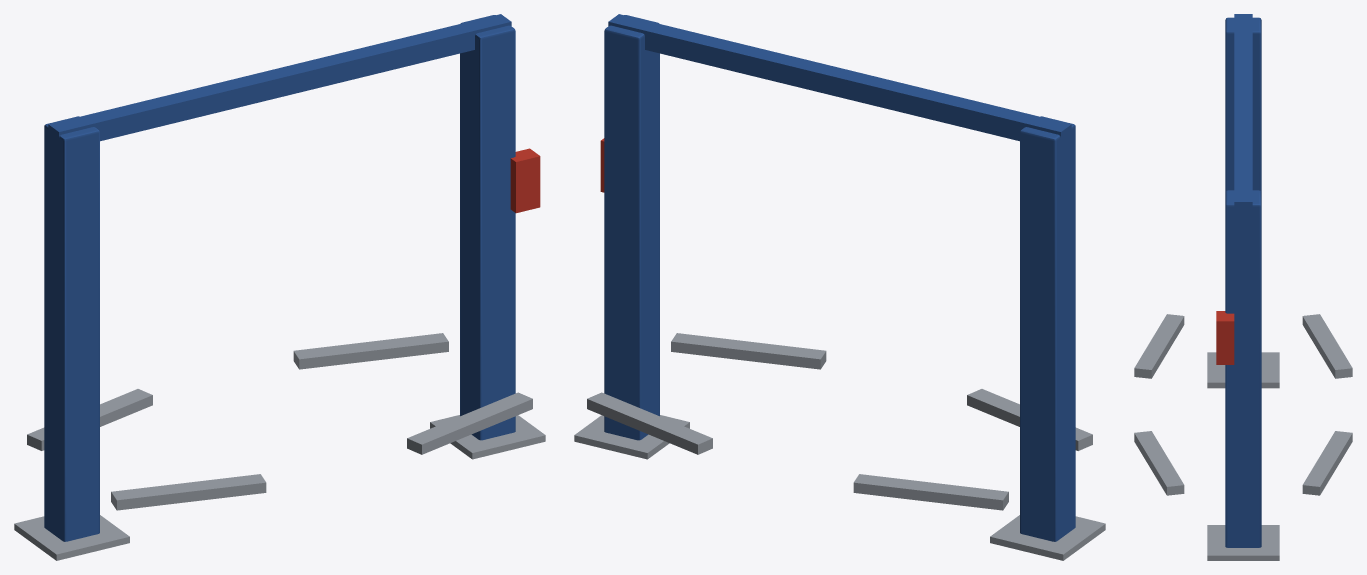
File: car-lift.glb
The picture shows the model from 3 angles, left to right: view 1: azimuth 30°, elevation 25°; view 2: azimuth 150°, elevation 25°; view 3: azimuth 270°, elevation 25°; orthographic projection. The views are drawn at different scales.
Parts seen in each view (by area): view 1: part-lift, part-steel, part-control; view 2: part-lift, part-steel; view 3: part-lift, part-steel, part-control.
Part boxes in pixels (x1=…): part-lift: x1=44, y1=14, x2=515, y2=541; part-steel: x1=14, y1=333, x2=545, y2=560; part-control: x1=510, y1=148, x2=540, y2=213; part-lift: x1=604, y1=14, x2=1075, y2=541; part-steel: x1=574, y1=333, x2=1105, y2=560; part-lift: x1=1225, y1=14, x2=1261, y2=547; part-steel: x1=1134, y1=314, x2=1352, y2=560; part-control: x1=1216, y1=311, x2=1234, y2=364.
Bounding box in the file's own units: 80 × 64.5 × 36.35.
